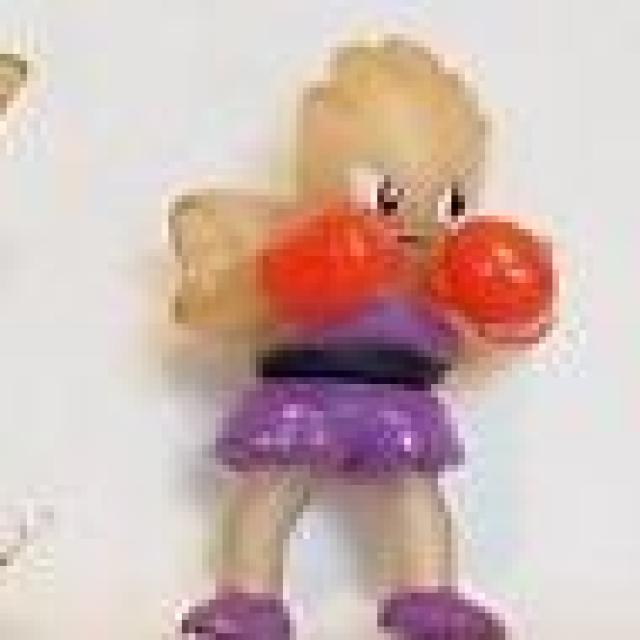Hitmonchan: (154, 25, 606, 640)
